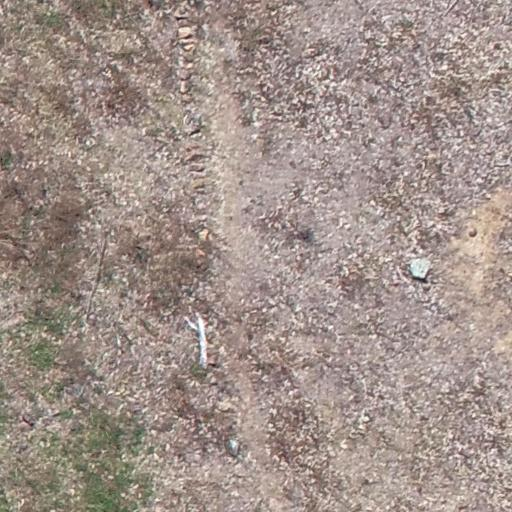stone: (411, 260, 431, 282), (180, 448, 202, 464), (66, 383, 85, 399), (191, 178, 207, 194), (194, 246, 208, 263), (218, 400, 236, 413), (174, 7, 190, 21), (302, 46, 320, 58), (228, 439, 241, 455), (177, 26, 195, 37), (177, 70, 193, 81), (179, 79, 189, 95), (197, 229, 209, 242), (181, 42, 196, 52), (181, 92, 193, 104), (184, 61, 195, 70)
